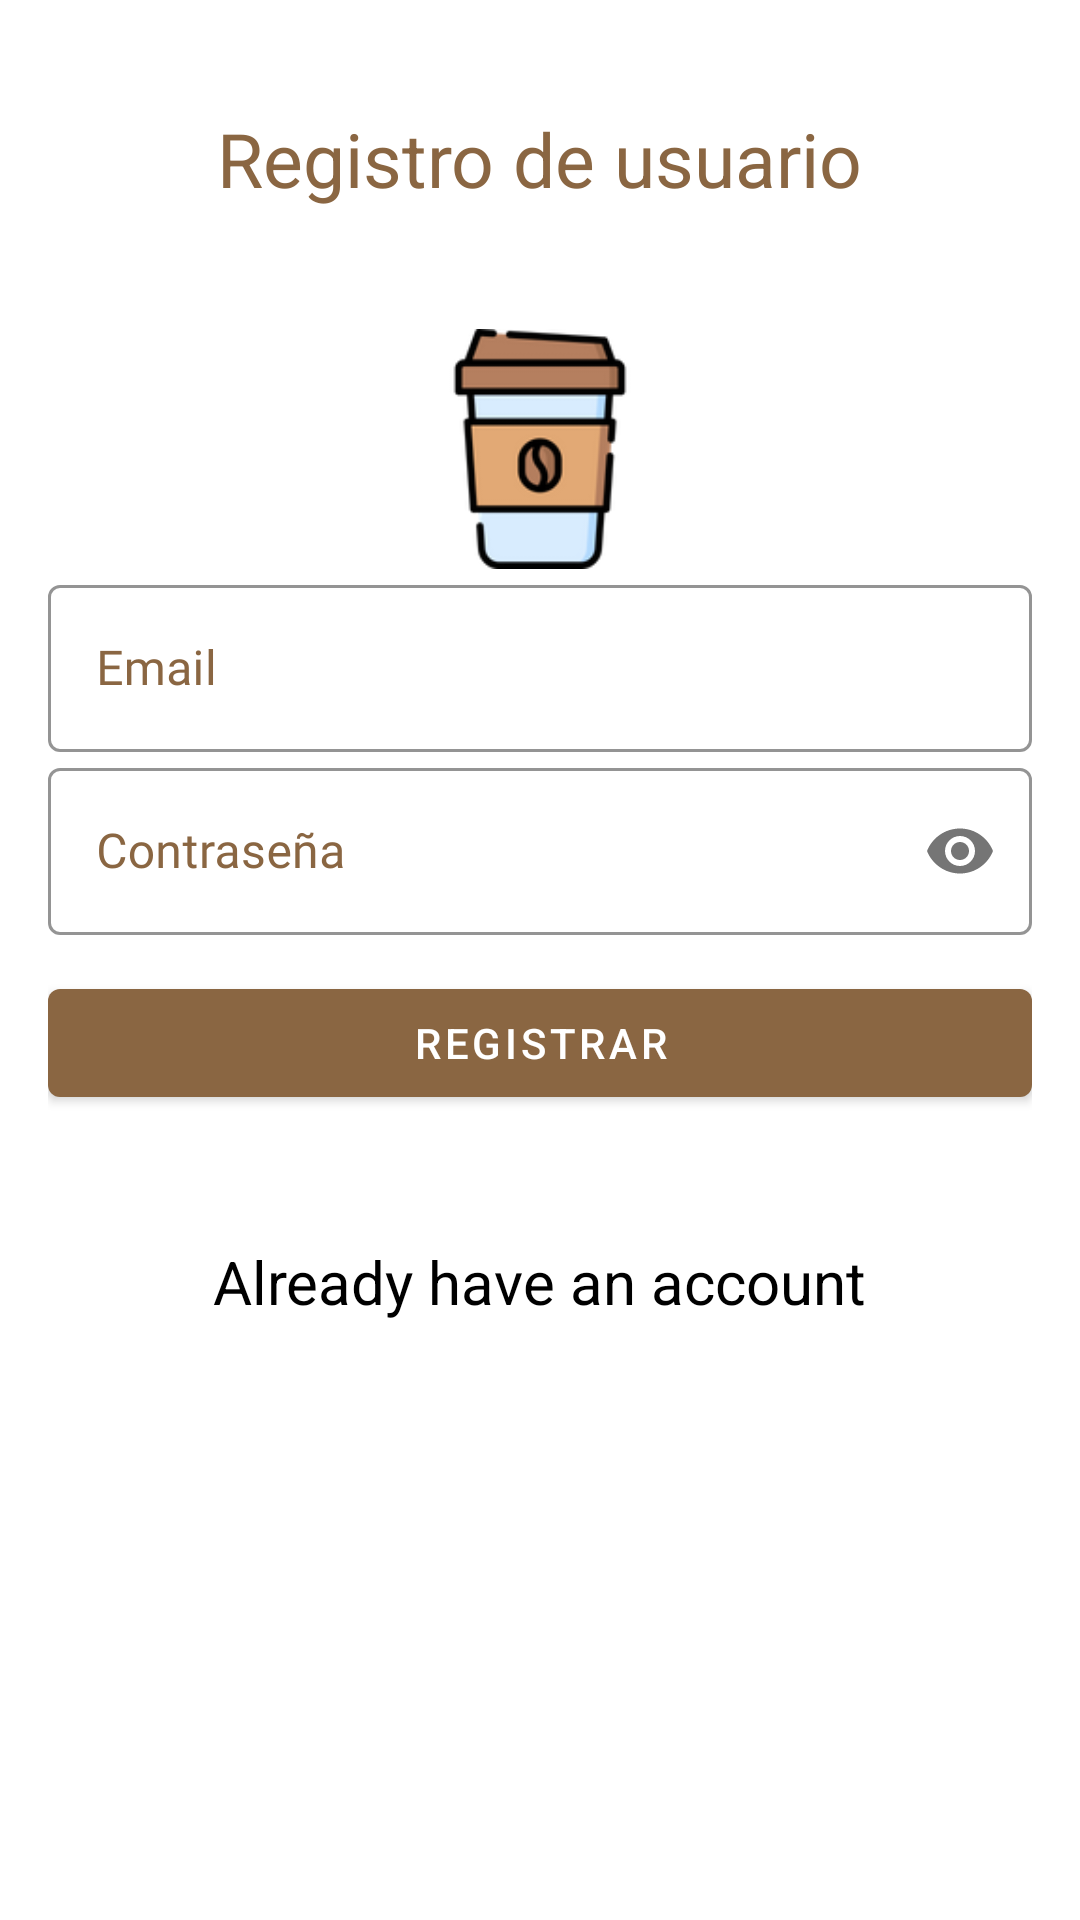

Icon click points for this 1080w x 1920h phone screenshot, format [x,y]:
coffee cup: [540,449]
